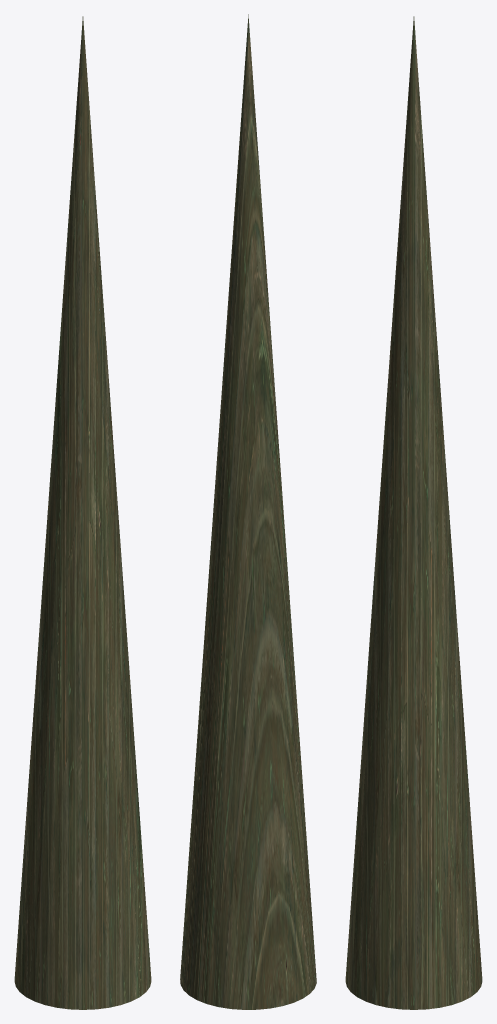
The model's file is Spike.fbx.
3 views of the same model, side by side, from view 1: azimuth 90°, elevation 25°; view 2: azimuth 210°, elevation 25°; view 3: azimuth 270°, elevation 25° (orthographic).
Parts seen in each view (by area): view 1: Cone; view 2: Cone; view 3: Cone.
Boxes of the visible parts, x1,y1,x2,y2 form: Cone: (14, 16, 151, 1009); Cone: (180, 14, 316, 1009); Cone: (345, 16, 482, 1009).
Bounding box in the file's own units: 26.02 × 203 × 26.02.
Materials: 1 (1 with a texture image).
